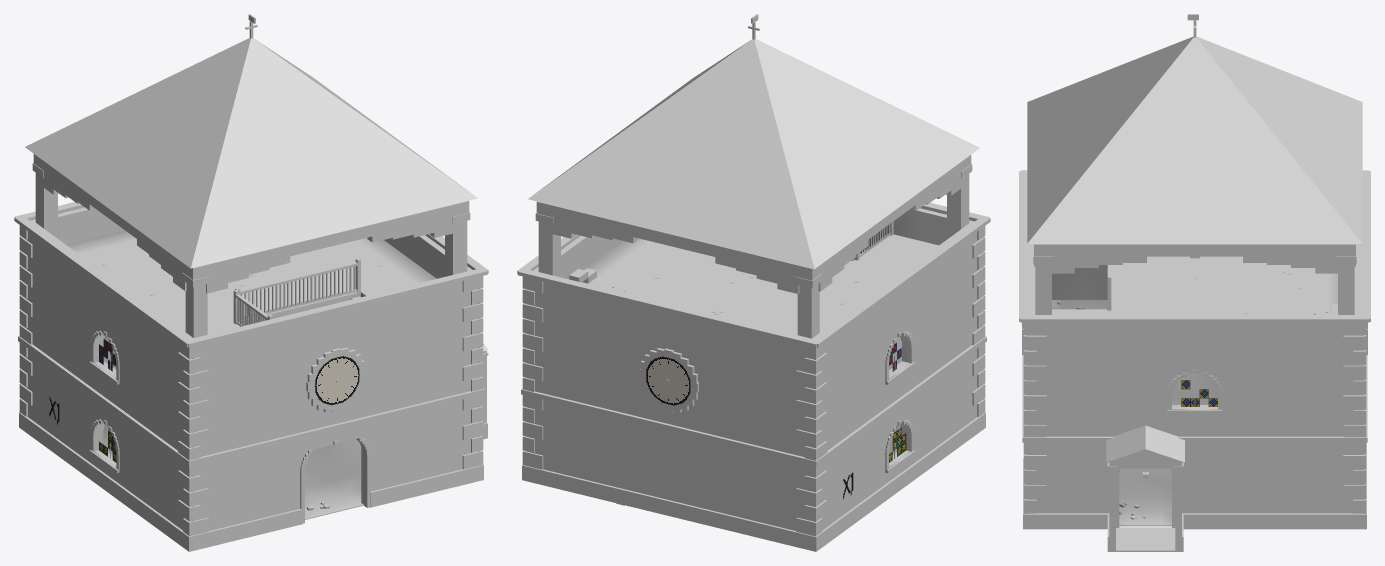
File: bell_tower.glb
3 views of the same model, side by side, from view 1: azimuth 30°, elevation 25°; view 2: azimuth 150°, elevation 25°; view 3: azimuth 270°, elevation 25° (orthographic).
Visible parts, largest first — view 1: bell_tower; view 2: bell_tower; view 3: bell_tower.
Boxes of the visible parts, box(x1,y1,x2,y2) form: bell_tower: box(14, 14, 488, 551); bell_tower: box(517, 14, 990, 551); bell_tower: box(1019, 14, 1370, 551).
Bounding box in the file's own units: 12.21 × 15.08 × 10.7.
3 materials, 2 textured.
